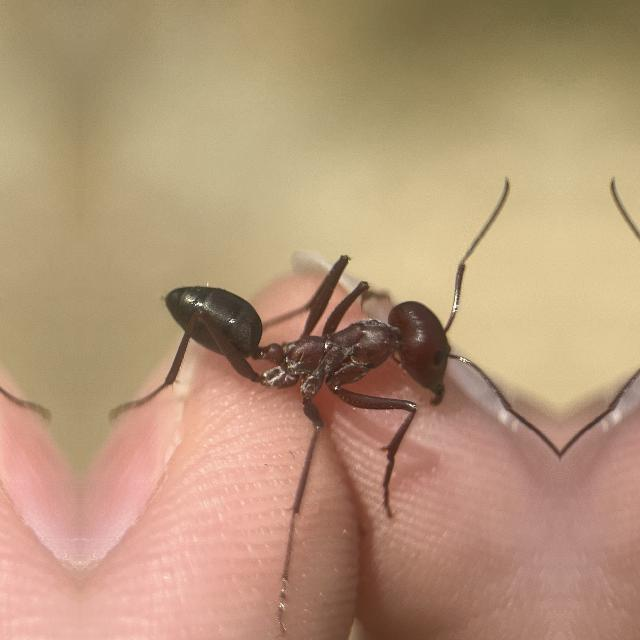Cataglyphis: (140, 221, 512, 485)
